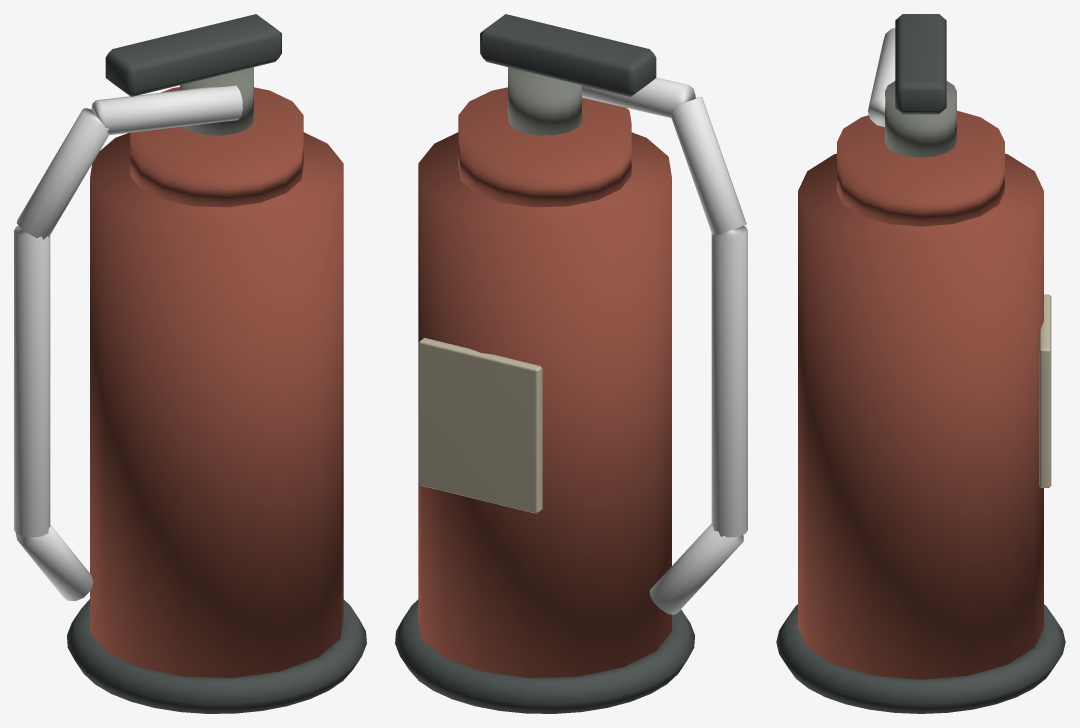
The model's file is FireExtinguisher02.fbx.
3 views of the same model, side by side, from view 1: azimuth 30°, elevation 25°; view 2: azimuth 150°, elevation 25°; view 3: azimuth 270°, elevation 25° (orthographic). The views are drawn at different scales.
Visible parts, largest first — view 1: FireExtinguisher02; view 2: FireExtinguisher02; view 3: FireExtinguisher02.
Part boxes in pixels (x1,y1,x2,y2): FireExtinguisher02: [14, 14, 366, 713]; FireExtinguisher02: [395, 14, 747, 713]; FireExtinguisher02: [776, 14, 1065, 713].
Size of the model in its own units: 35.8 by 64.31 by 28.2.
